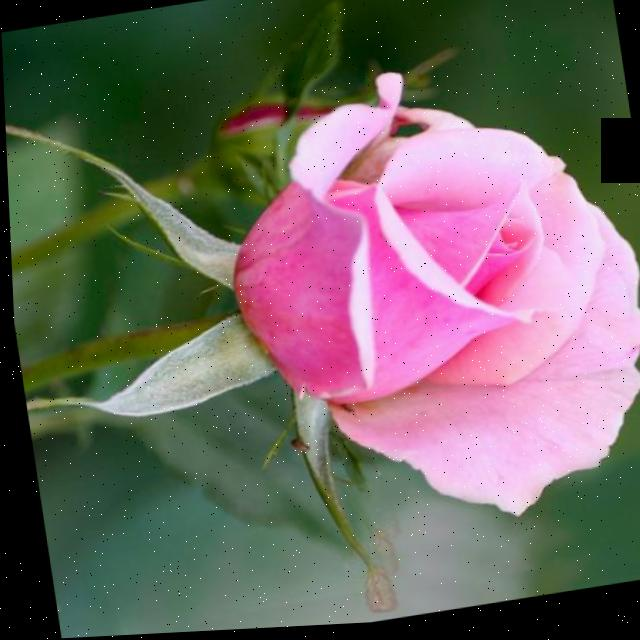rose: (98, 39, 640, 549)
